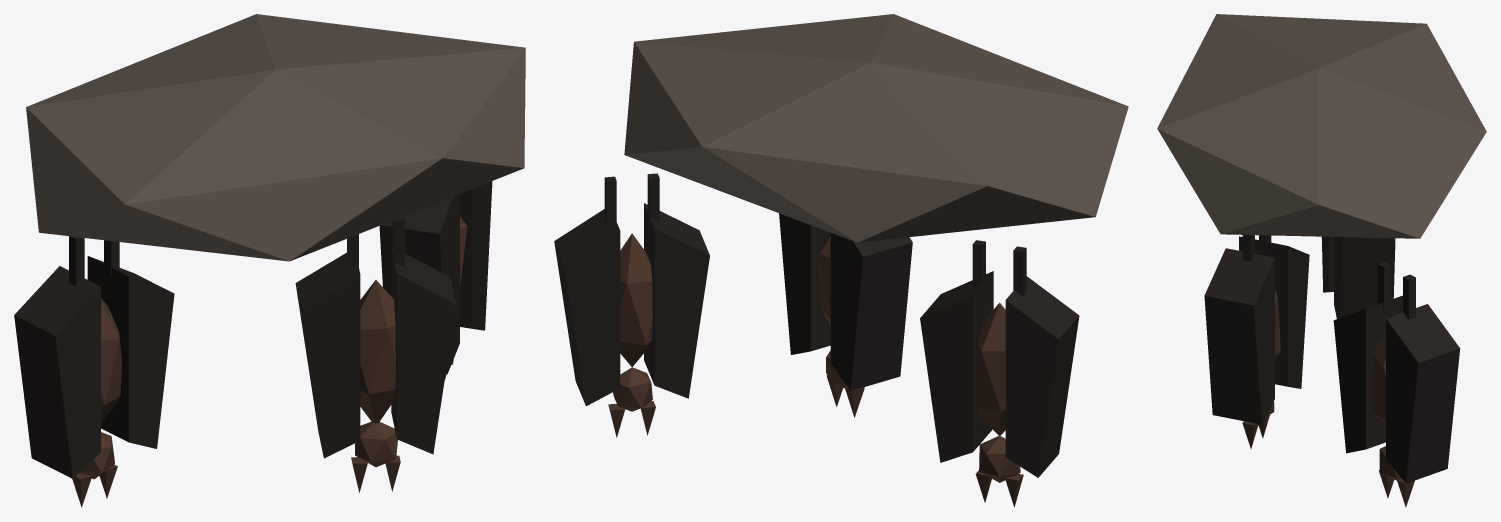
Rendered from mine_bats.glb.
The picture shows the model from 3 angles, left to right: view 1: azimuth 30°, elevation 25°; view 2: azimuth 150°, elevation 25°; view 3: azimuth 270°, elevation 25°; orthographic projection. The views are drawn at different scales.
Visible parts, largest first — view 1: mine_bats; view 2: mine_bats; view 3: mine_bats.
Part boxes in pixels (x1,y1,x2,y2): mine_bats: [14, 14, 525, 507]; mine_bats: [554, 14, 1128, 507]; mine_bats: [1157, 14, 1486, 507].
Size of what is drawn, in the model's own units: 0.6465 by 0.4966 by 0.4242.
